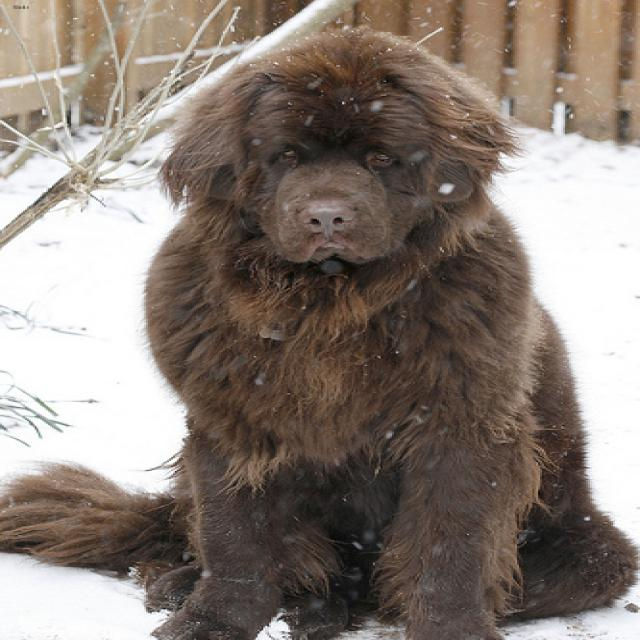dog-newfoundland: (2, 14, 636, 637)
